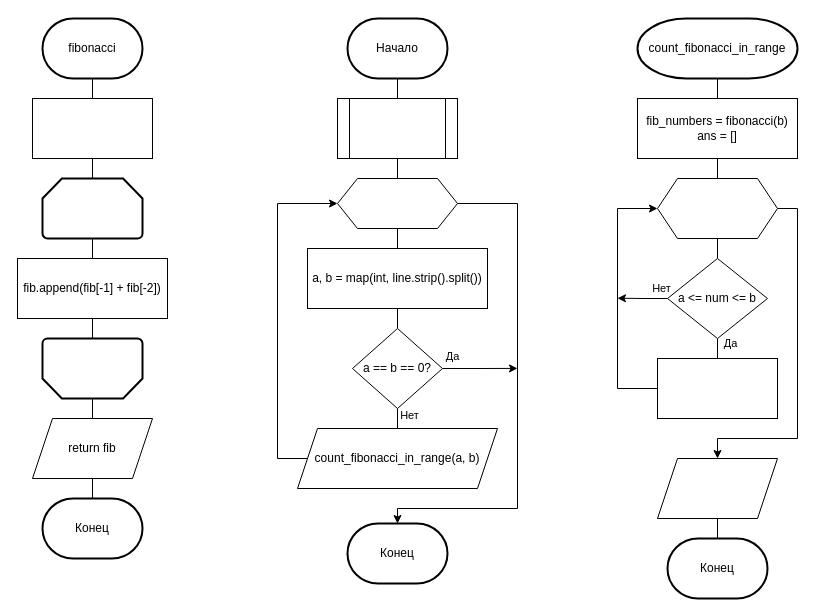
The diagram is 823 pixels wide and 616 high, and some of its shapes have lost their labels. Here are the shapes that lost their labels. From the top down, the centre of each, then its label:
At point (92, 128): "fib = [0, 1]".
At point (397, 128): "Открыть файл input.txt как file".
At point (92, 208): "fib[-1] < n".
At point (397, 203): "line in file".
At point (717, 208): "num in fib_numbers".
At point (717, 388): "ans.append()".
At point (717, 488): "return len(ans)".
